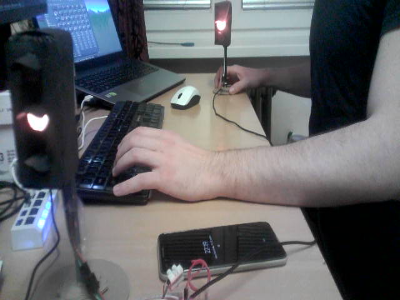trafficlight_red: (18, 36, 69, 182), (214, 3, 230, 45)
